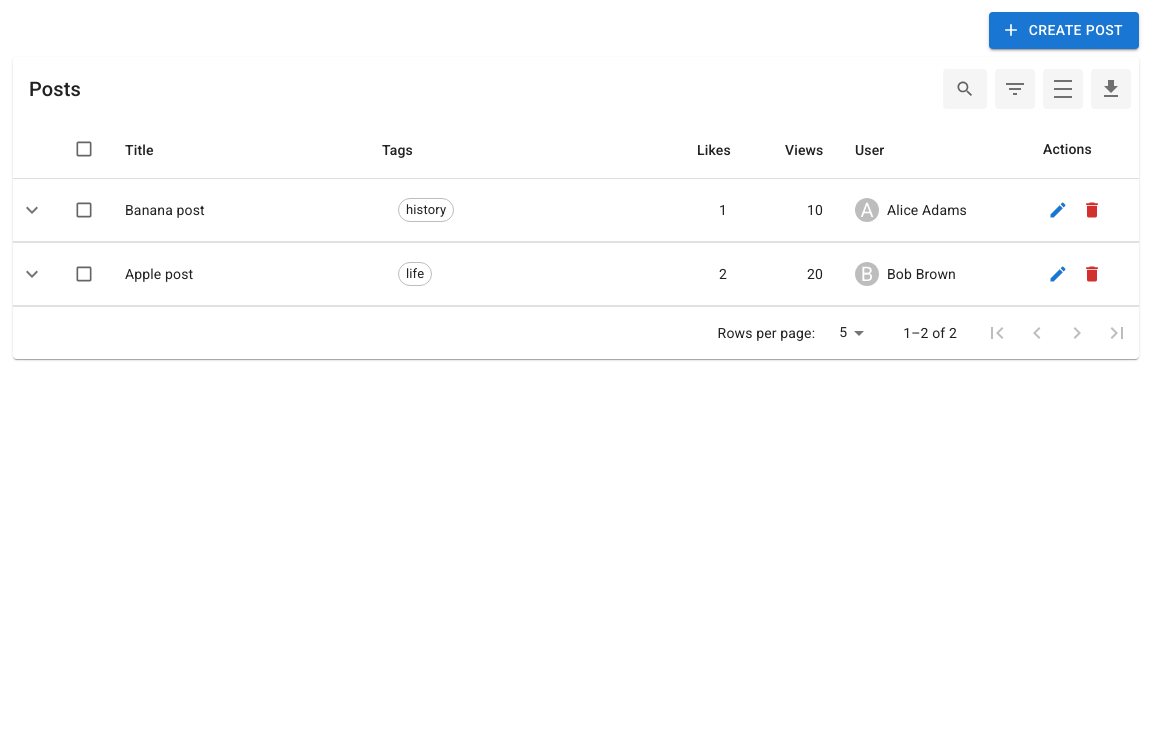
Test case: PostsTable › shows comments in the expanded row
Expected: the column heading "Banana post" is shown, [109, 179, 382, 242]
What coordinates should you click on to do the following:
click the button named "expand row" next to "Banana post"
I would click on:
 (32, 210)
Its box is [15, 193, 49, 227].
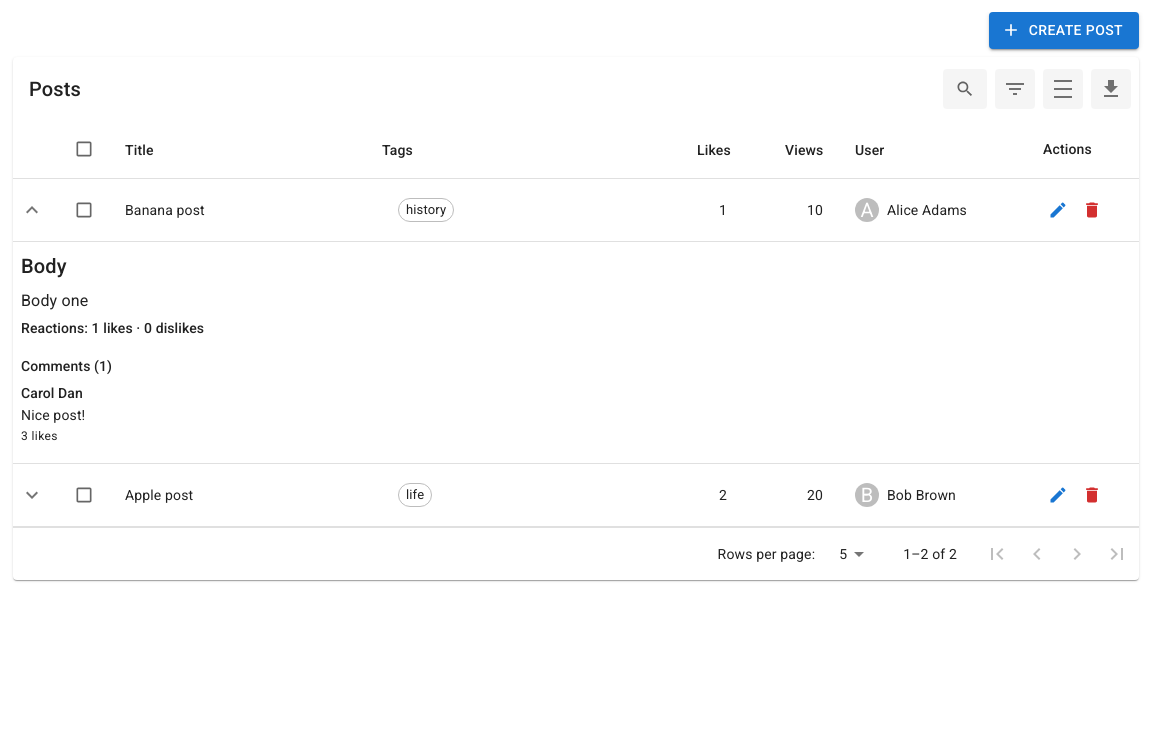
Expected: the text "Nice post!" is shown, [21, 407, 85, 423]
Expected: the heading "Comments (1)" is shown, [21, 358, 112, 374]
Expected: the text "Carol Dan" is shown, [21, 385, 83, 401]
